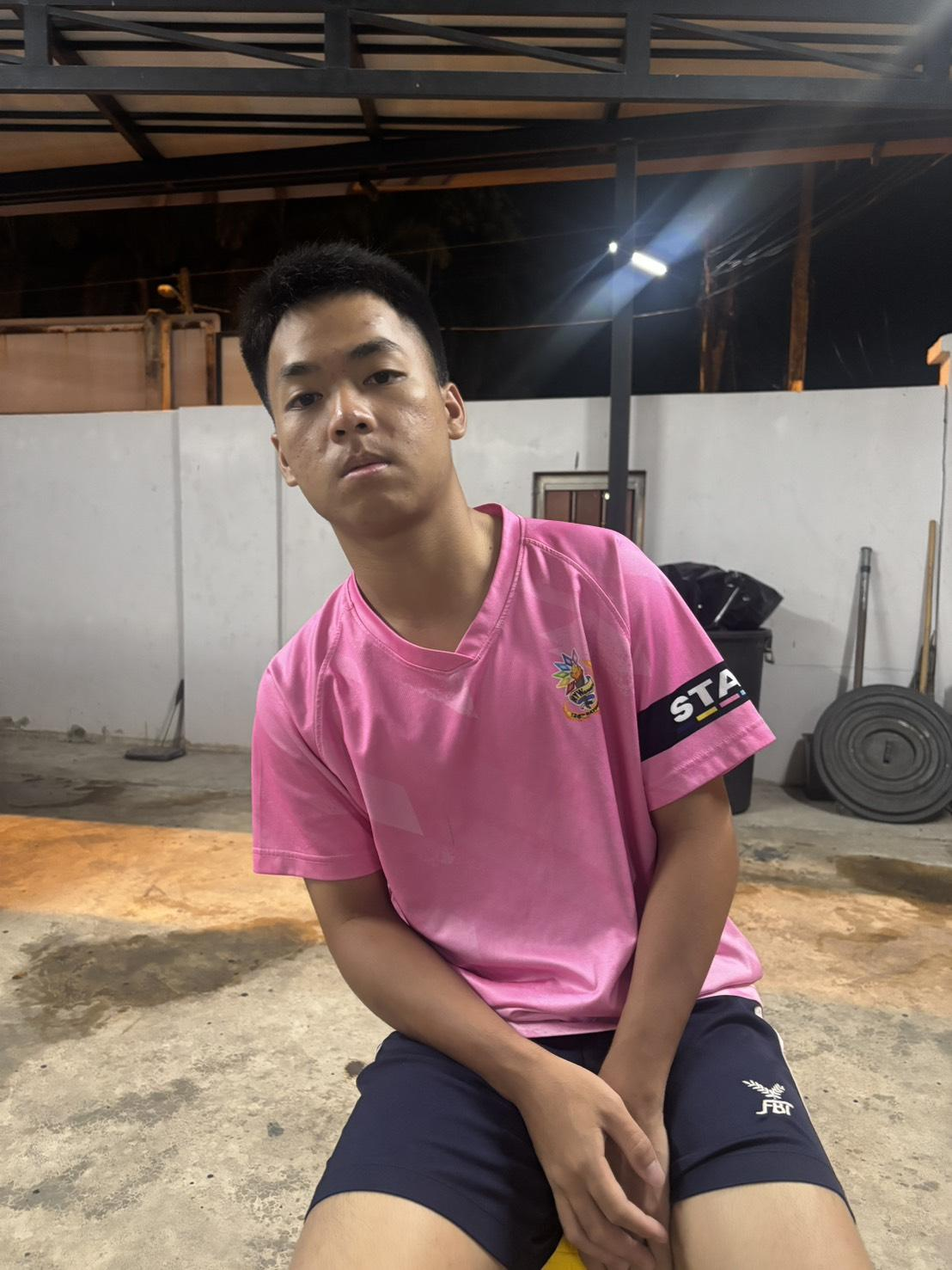BadPosture: (241, 246, 870, 1269)
